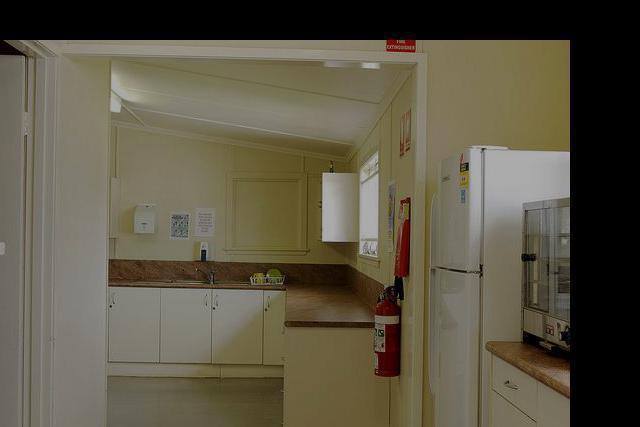Lavaplatos: (173, 265, 217, 287)
